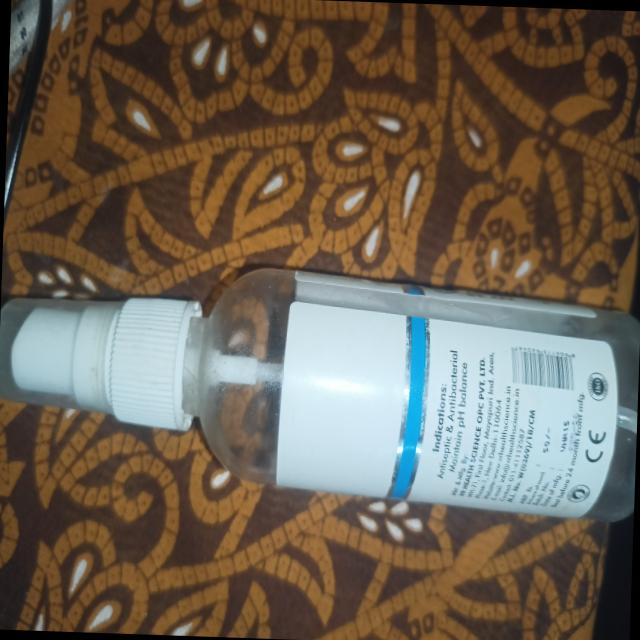plastic_bottle: (0, 215, 640, 575)
